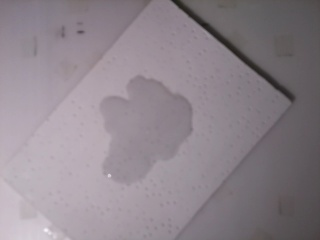Water_detected: (109, 85, 187, 177)
